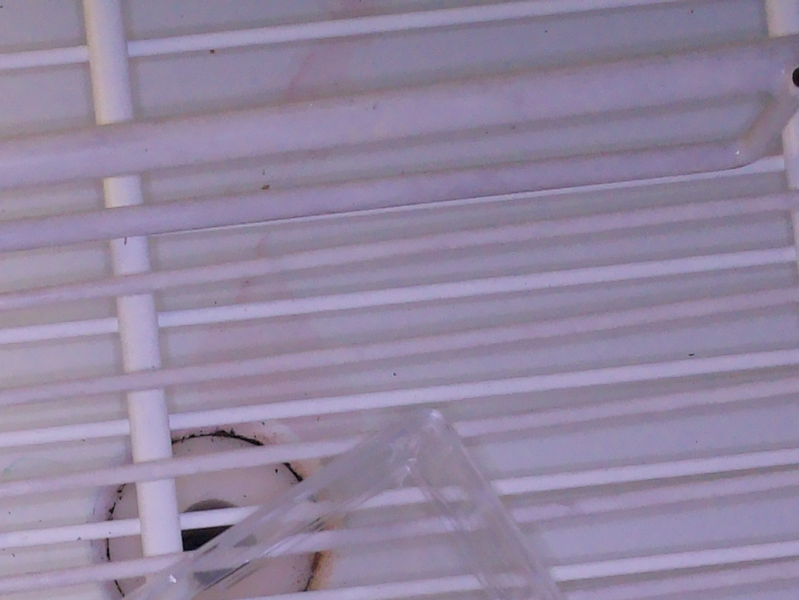plate: (89, 404, 584, 600)
